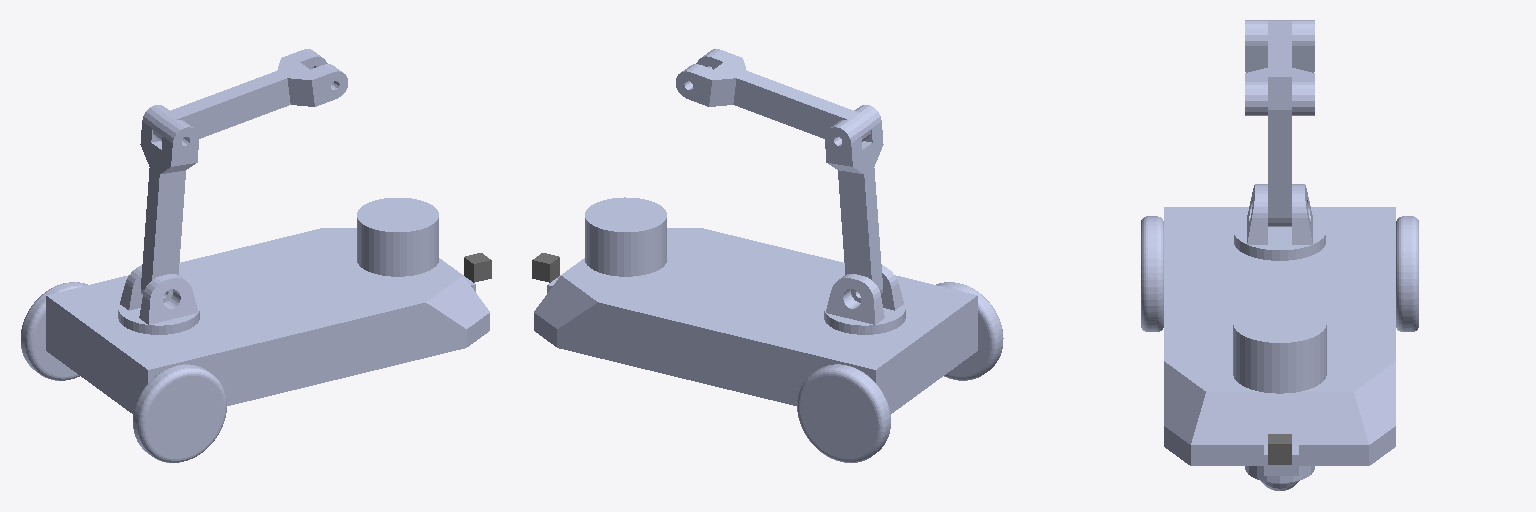
robot.urdf — Assem2:
<?xml version="1.0" encoding="utf-8"?>
<robot name="Assem2">
  <link name="base_link">
    <inertial>
      <origin xyz="0.0824061936587566 1.37205054136225E-06 0.00974589947896125" rpy="0 0 0" />
      <mass value="0.602757609932735" />
      <inertia ixx="0.000520371186768291" ixy="-8.75385524365518E-08" ixz="3.11962849407192E-05" iyy="0.00190685028185422" iyz="7.57869371340779E-09" izz="0.00232604437719545" />
    </inertial>
    <visual>
      <origin xyz="0 0 0" rpy="0 0 0" />
      <geometry>
        <mesh filename="package://Assem2/meshes/base_link.STL" />
      </geometry>
      <material name="">
        <color rgba="0.792156862745098 0.819607843137255 0.933333333333333 1" />
      </material>
    </visual>
    <collision>
      <origin xyz="0 0 0" rpy="0 0 0" />
      <geometry>
        <mesh filename="package://Assem2/meshes/base_link.STL" />
      </geometry>
    </collision>
  </link>

  <link name="R_Link">
    <inertial>
      <origin xyz="5.55111512312578E-17 -0.0546969469389906 0" rpy="0 0 0" />
      <mass value="0.0194371447886429" />
      <inertia ixx="3.14558980182433E-06" ixy="2.44447746510133E-22" ixz="3.19958523108531E-22" iyy="5.78704636806893E-06" iyz="-2.49258946404791E-23" izz="3.14558980182433E-06" />
    </inertial>
    <visual>
      <origin xyz="0 0 0" rpy="0 0 0" />
      <geometry>
        <mesh filename="package://Assem2/meshes/R_Link.STL" />
      </geometry>
      <material name="">
        <color rgba="0.792156862745098 0.819607843137255 0.933333333333333 1" />
      </material>
    </visual>
    <collision>
      <origin xyz="0 0 0" rpy="0 0 0" />
      <geometry>
        <mesh filename="package://Assem2/meshes/R_Link.STL" />
      </geometry>
    </collision>
  </link>

  <joint name="joint_R" type="continuous">
    <origin xyz="0 0 0" rpy="0 0 0" />
    <parent link="base_link" />
    <child link="R_Link" />
    <axis xyz="0 1 0" />
    <limit effort="5" velocity="10" />
    <dynamics damping="0.01" friction="0.01" />
  </joint>

  <link name="L_Link">
    <inertial>
      <origin xyz="4.16333634234434E-17 0.0546969469389906 4.16333634234434E-17" rpy="0 0 0" />
      <mass value="0.0194371447886429" />
      <inertia ixx="3.14558980182433E-06" ixy="1.23753153648335E-22" ixz="-2.42151415917026E-22" iyy="5.78704636806893E-06" iyz="1.24482405285302E-22" izz="3.14558980182433E-06" />
    </inertial>
    <visual>
      <origin xyz="0 0 0" rpy="0 0 0" />
      <geometry>
        <mesh filename="package://Assem2/meshes/L_Link.STL" />
      </geometry>
      <material name="">
        <color rgba="0.792156862745098 0.819607843137255 0.933333333333333 1" />
      </material>
    </visual>
    <collision>
      <origin xyz="0 0 0" rpy="0 0 0" />
      <geometry>
        <mesh filename="package://Assem2/meshes/L_Link.STL" />
      </geometry>
    </collision>
  </link>

  <joint name="joint_L" type="continuous">
    <origin xyz="0 0 0" rpy="0 0 0" />
    <parent link="base_link" />
    <child link="L_Link" />
    <axis xyz="0 1 0" />
    <limit effort="5" velocity="10" />
    <dynamics damping="0.01" friction="0.01" />
  </joint>

  <link name="lidar_Link">
    <inertial>
      <origin xyz="0 0 -0.012" rpy="0 0 0" />
      <mass value="0.0308288329100048" />
      <inertia ixx="4.6311080166665E-06" ixy="6.37236764452981E-54" ixz="-4.01942650190399E-38" iyy="4.6311080166665E-06" iyz="1.44560169672774E-38" izz="6.30264807397255E-06" />
    </inertial>
    <visual>
      <origin xyz="0 0 0" rpy="0 0 0" />
      <geometry>
        <mesh filename="package://Assem2/meshes/lidar_Link.STL" />
      </geometry>
      <material name="">
        <color rgba="0.792156862745098 0.819607843137255 0.933333333333333 1" />
      </material>
    </visual>
    <collision>
      <origin xyz="0 0 0" rpy="0 0 0" />
      <geometry>
        <mesh filename="package://Assem2/meshes/lidar_Link.STL" />
      </geometry>
    </collision>
  </link>

  <joint name="joint_lidar" type="fixed">
    <origin xyz="0.155 0 0.049" rpy="0 0 0" />
    <parent link="base_link" />
    <child link="lidar_Link" />
    <axis xyz="0 0 0" />
  </joint>

  <link name="Link_arm1">
    <inertial>
      <origin xyz="0.0509330109774197 9.71445146547012E-17 0.005" rpy="0 0 0" />
      <mass value="0.0186366701789183" />
      <inertia ixx="1.09488685809176E-06" ixy="5.82335151237331E-22" ixz="-1.55352332474711E-21" iyy="1.57592192551664E-05" iyz="-3.4963206535038E-23" izz="1.53586055864204E-05" />
    </inertial>
    <visual>
      <origin xyz="0 0 0" rpy="0 0 0" />
      <geometry>
        <mesh filename="package://Assem2/meshes/Link_arm1.STL" />
      </geometry>
      <material name="">
        <color rgba="0.792156862745098 0.819607843137255 0.933333333333333 1" />
      </material>
    </visual>
    <collision>
      <origin xyz="0 0 0" rpy="0 0 0" />
      <geometry>
        <mesh filename="package://Assem2/meshes/Link_arm1.STL" />
      </geometry>
    </collision>
  </link>

  <joint name="joint_arm1" type="revolute">
    <origin xyz="0.02 -0.005 0.04" rpy="-1.5708 -1.4936 0" />
    <parent link="base_link" />
    <child link="Link_arm1" />
    <axis xyz="0 0 -1" />
    <limit lower="-0.35" upper="0.35" effort="5" velocity="2" />
    <dynamics damping="0.01" friction="0.01" />
  </joint>

  <link name="Link-arm2">
    <inertial>
      <origin xyz="0.0509330109774186 -1.13797860024079E-15 0.015" rpy="0 0 0" />
      <mass value="0.0186366701789183" />
      <inertia ixx="1.09488685809176E-06" ixy="-1.7205356741103E-21" ixz="-1.50611234960184E-21" iyy="1.57592192551664E-05" iyz="-4.00577295318355E-23" izz="1.53586055864204E-05" />
    </inertial>
    <visual>
      <origin xyz="0 0 0" rpy="0 0 0" />
      <geometry>
        <mesh filename="package://Assem2/meshes/Link-arm2.STL" />
      </geometry>
      <material name="">
        <color rgba="0.792156862745098 0.819607843137255 0.933333333333333 1" />
      </material>
    </visual>
    <collision>
      <origin xyz="0 0 0" rpy="0 0 0" />
      <geometry>
        <mesh filename="package://Assem2/meshes/Link-arm2.STL" />
      </geometry>
    </collision>
  </link>

  <joint name="joint_arm2" type="revolute">
    <origin xyz="0.085 0 -0.01" rpy="0 0 1.3703" />
    <parent link="Link_arm1" />
    <child link="Link-arm2" />
    <axis xyz="0 0 -1" />
    <limit lower="-0.35" upper="0.35" effort="5" velocity="2" />
    <dynamics damping="0.01" friction="0.01" />
  </joint>

  <link name="camera_link">
    <collision>
      <origin xyz="0 0 0" rpy="0 0 0"/>
      <geometry>
        <box size="0.05 0.05 0.05"/>
      </geometry>
    </collision>
    <visual>
      <origin xyz="0 0 0" rpy="0 0 0"/>
      <geometry>
        <box size="0.01 0.01 0.01"/>
      </geometry>
      <material name="gray">
        <color rgba="0.5 0.5 0.5 1"/>
      </material>
    </visual>
    <inertial>
      <mass value="1e-5" />
      <origin xyz="0 0 0" rpy="0 0 0"/>
      <inertia ixx="1e-6" ixy="0" ixz="0" iyy="1e-6" iyz="0" izz="1e-6" />
    </inertial>
  </link>

  <joint name="camera_joint" type="fixed">
    <origin xyz="0.2 0 0.01" rpy="0 0 0"/>
    <parent link="base_link"/>
    <child link="camera_link"/>
  </joint>

  <gazebo>
    <plugin name="diff_drive_controller" filename="libgazebo_ros_diff_drive.so">
      <robotNamespace>/</robotNamespace>
      <publishWheelTF>true</publishWheelTF>
      <publishTf>true</publishTf>
      <publishWheelJointState>true</publishWheelJointState>
      <alwaysOn>true</alwaysOn>
      <updateRate>100.0</updateRate>
      <leftJoint>joint_L</leftJoint>
      <rightJoint>joint_R</rightJoint>
      <wheelSeparation>0.1</wheelSeparation>
      <wheelDiameter>0.05</wheelDiameter>
      <torque>5</torque>
      <commandTopic>cmd_vel</commandTopic>
      <odometryTopic>odom</odometryTopic>
      <odometryFrame>odom</odometryFrame>
      <robotBaseFrame>base_link</robotBaseFrame>
    </plugin>
  </gazebo>

  <gazebo>
    <plugin name="gazebo_ros_control" filename="libgazebo_ros_control.so">
      <robotNamespace>/</robotNamespace>
      <robotSimType>gazebo_ros_control/DefaultRobotHWSim</robotSimType>
      <legacyModeNS>false</legacyModeNS>
      <controlPeriod>0.001</controlPeriod>
    </plugin>
  </gazebo>

  <gazebo reference="lidar_Link">
    <sensor type="ray" name="lidar_sensor">
      <pose>0 0 0 0 0 0</pose>
      <visualize>true</visualize>
      <update_rate>20</update_rate>
      <ray>
        <scan>
          <horizontal>
            <samples>720</samples>
            <resolution>1</resolution>
            <min_angle>-3.14</min_angle>
            <max_angle>3.14</max_angle>
          </horizontal>
        </scan>
        <range>
          <min>0.1</min>
          <max>10.0</max>
          <resolution>0.01</resolution>
        </range>
      </ray>
      <plugin name="lidar_controller" filename="libgazebo_ros_laser.so">
        <topicName>/lidar/scan</topicName>
        <frameName>lidar_Link</frameName>
      </plugin>
    </sensor>
  </gazebo>

  <gazebo reference="camera_link">
    <sensor type="camera" name="camera1">
      <update_rate>30.0</update_rate>
      <camera name="head">
        <horizontal_fov>1.3962634</horizontal_fov>
        <image>
          <width>800</width>
          <height>800</height>
          <format>R8G8B8</format>
        </image>
        <clip>
          <near>0.02</near>
          <far>300</far>
        </clip>
        <noise>
          <type>gaussian</type>
          <mean>0.0</mean>
          <stddev>0.007</stddev>
        </noise>
      </camera>
      <plugin name="camera_controller" filename="libgazebo_ros_camera.so">
        <alwaysOn>true</alwaysOn>
        <updateRate>30.0</updateRate>
        <cameraName>camera1</cameraName>
        <imageTopicName>image_raw</imageTopicName>
        <cameraInfoTopicName>camera_info</cameraInfoTopicName>
        <frameName>camera_link</frameName>
        <hackBaseline>0.0</hackBaseline>
        <distortionK1>0.0</distortionK1>
        <distortionK2>0.0</distortionK2>
        <distortionK3>0.0</distortionK3>
        <distortionT1>0.0</distortionT1>
        <distortionT2>0.0</distortionT2>
      </plugin>
    </sensor>
  </gazebo>

  <transmission name="joint_arm1_trans">
    <type>transmission_interface/SimpleTransmission</type>
    <joint name="joint_arm1">
      <hardwareInterface>hardware_interface/PositionJointInterface</hardwareInterface>
    </joint>
    <actuator name="actuator_arm1">
      <mechanicalReduction>1</mechanicalReduction>
    </actuator>
  </transmission>

  <transmission name="joint_arm2_trans">
    <type>transmission_interface/SimpleTransmission</type>
    <joint name="joint_arm2">
      <hardwareInterface>hardware_interface/PositionJointInterface</hardwareInterface>
    </joint>
    <actuator name="actuator_arm2">
      <mechanicalReduction>1</mechanicalReduction>
    </actuator>
  </transmission>
  
  
</robot>

--- Facts derived from the render (not from the file) ---
The picture shows the robot from 3 angles, left to right: view 1: azimuth 30°, elevation 25°; view 2: azimuth 150°, elevation 25°; view 3: azimuth 270°, elevation 25°; orthographic projection.
Model Assem2 with 7 links and 6 joints (2 revolute, 2 continuous, 2 fixed), rooted at base_link, posed all joints at 0.
Links seen in each view (by area): view 1: base_link, R_Link, Link-arm2, Link_arm1, lidar_Link, L_Link, camera_link; view 2: base_link, L_Link, Link-arm2, Link_arm1, lidar_Link, R_Link, camera_link; view 3: base_link, lidar_Link, Link_arm1, Link-arm2, R_Link, L_Link, camera_link.
Boxes of the visible links, x1,y1,x2,y2 form: base_link: (46,228,489,413); R_Link: (133,364,226,462); Link-arm2: (152,49,347,141); Link_arm1: (140,105,198,302); lidar_Link: (357,198,438,276); L_Link: (21,282,87,380); camera_link: (464,253,491,282); base_link: (534,228,977,413); L_Link: (797,364,890,462); Link-arm2: (676,49,871,141); Link_arm1: (825,105,883,302); lidar_Link: (585,197,666,276); R_Link: (936,282,1003,380); camera_link: (532,253,559,282); base_link: (1164,184,1395,490); lidar_Link: (1233,303,1326,393); Link_arm1: (1245,20,1314,226); Link-arm2: (1245,20,1314,115); R_Link: (1141,216,1163,331); L_Link: (1396,216,1418,331); camera_link: (1268,434,1291,464).
Size in the robot's own frame: 0.23 by 0.12 by 0.1726 metres.
6 mesh visuals loaded from 6 distinct referenced files (6 binary STL).
